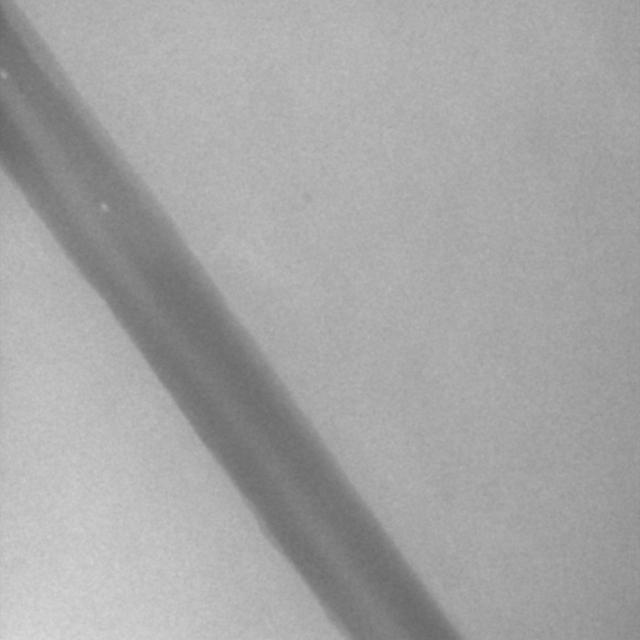air-hole: (98, 201, 114, 213), (0, 68, 10, 78)
